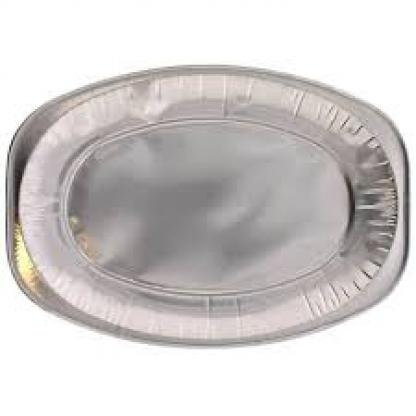METAL: (6, 63, 406, 344)
